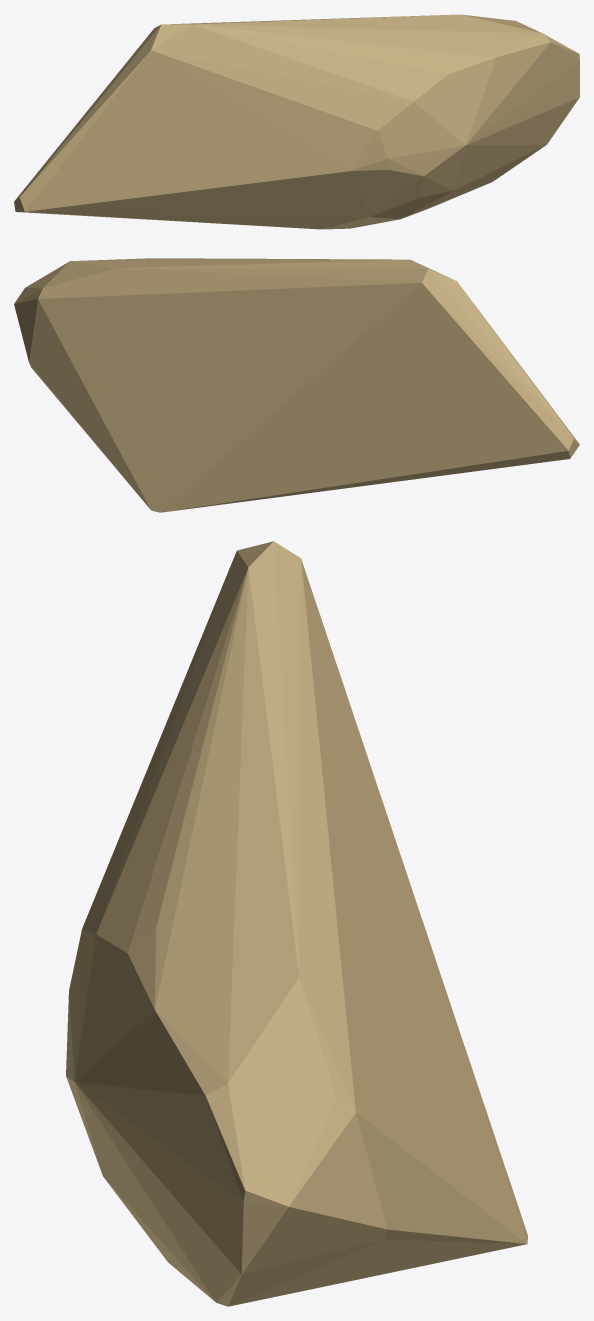
File: drainage_pumpSystem_a01.glb
3 views of the same model, one above another, from view 1: azimuth 30°, elevation 25°; view 2: azimuth 150°, elevation 25°; view 3: azimuth 270°, elevation 25° (orthographic). The views are drawn at different scales.
Parts seen in each view (by area): view 1: geometry_0; view 2: geometry_0; view 3: geometry_0.
Part boxes in pixels (bbox=[...]): geometry_0: bbox=[14, 14, 579, 229]; geometry_0: bbox=[14, 258, 579, 512]; geometry_0: bbox=[66, 541, 527, 1306].
Bounding box in the file's own units: 0.4799 × 0.2045 × 0.1732.
